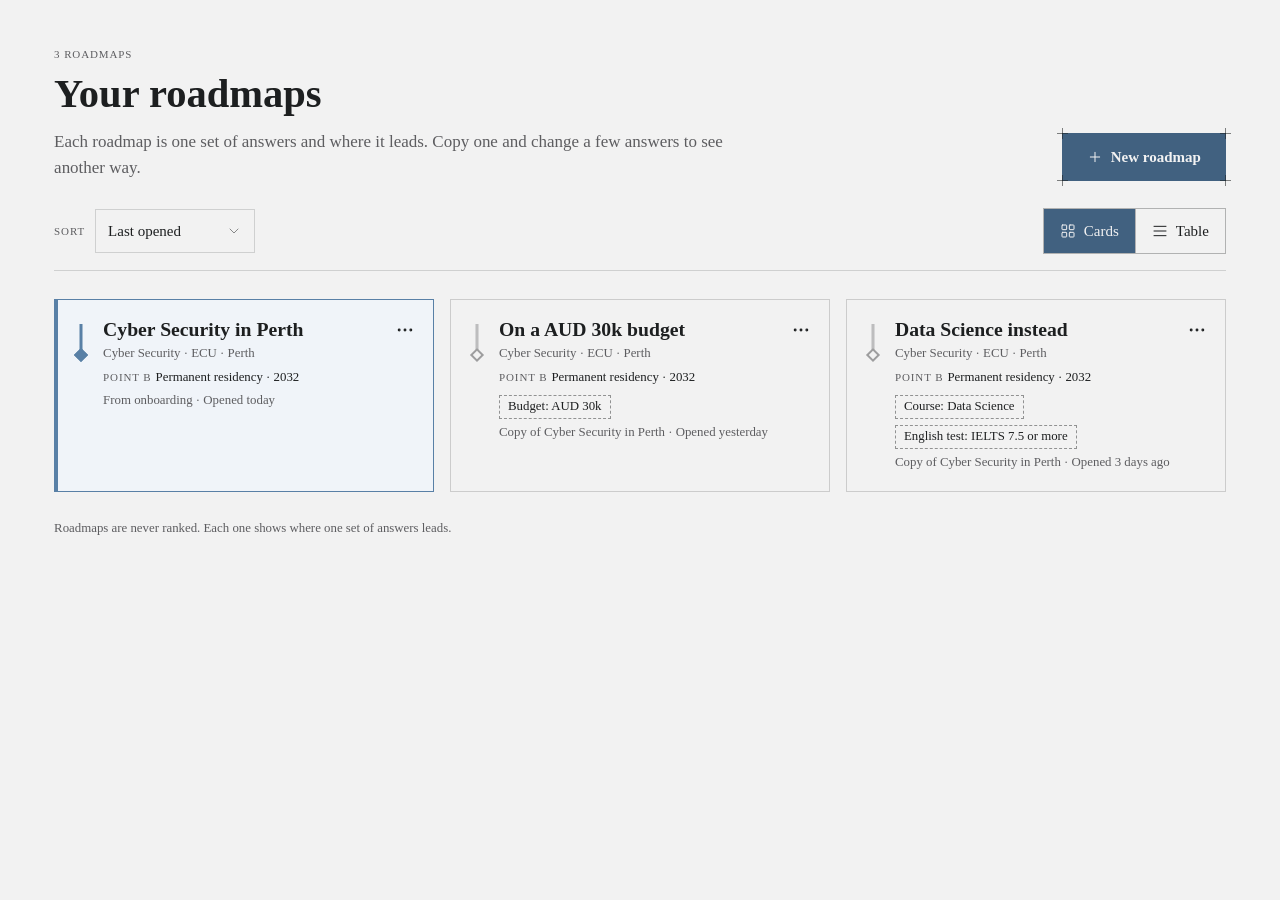
Archive › the fold opens on its archived roadmaps, faded, each row restoring it
Step 1. Click the button named "More for On a AUD 30k budget" → (801, 330), box 779,308 -> 823,352
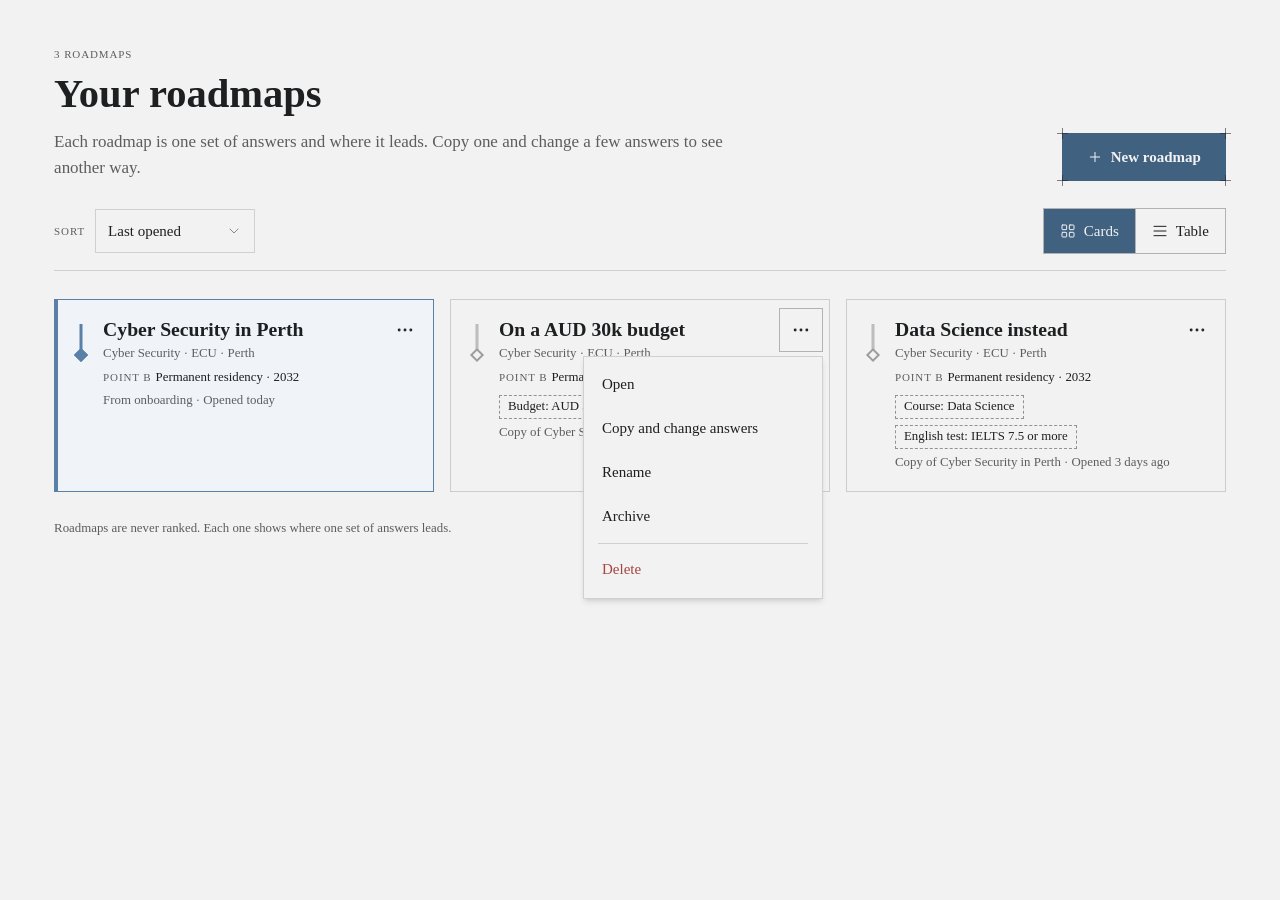
Step 2. Click the menu item "Archive" → (703, 516), box 590,494 -> 816,538
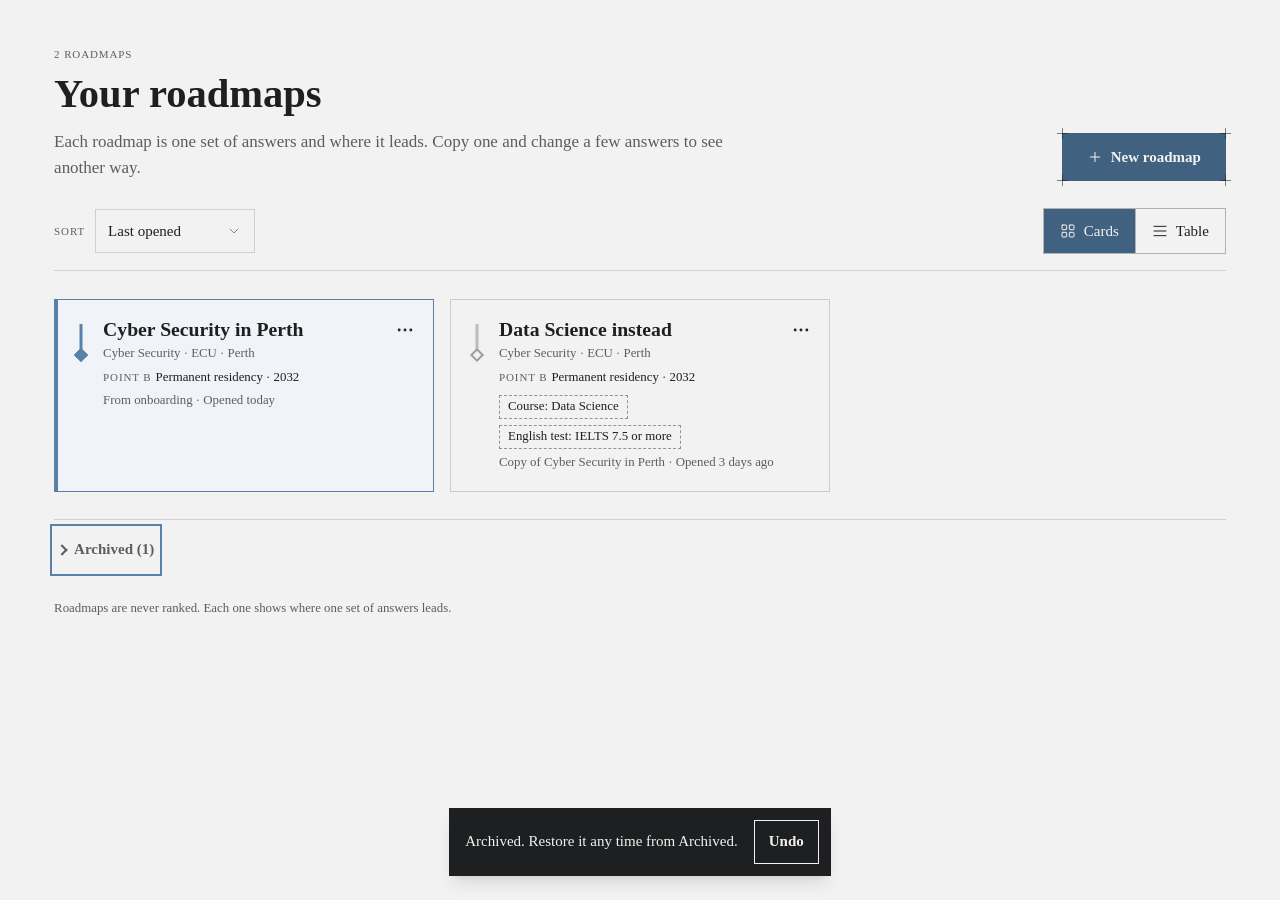
Step 3. Click the button "Archived (1)" → (106, 550), box 54,528 -> 158,572
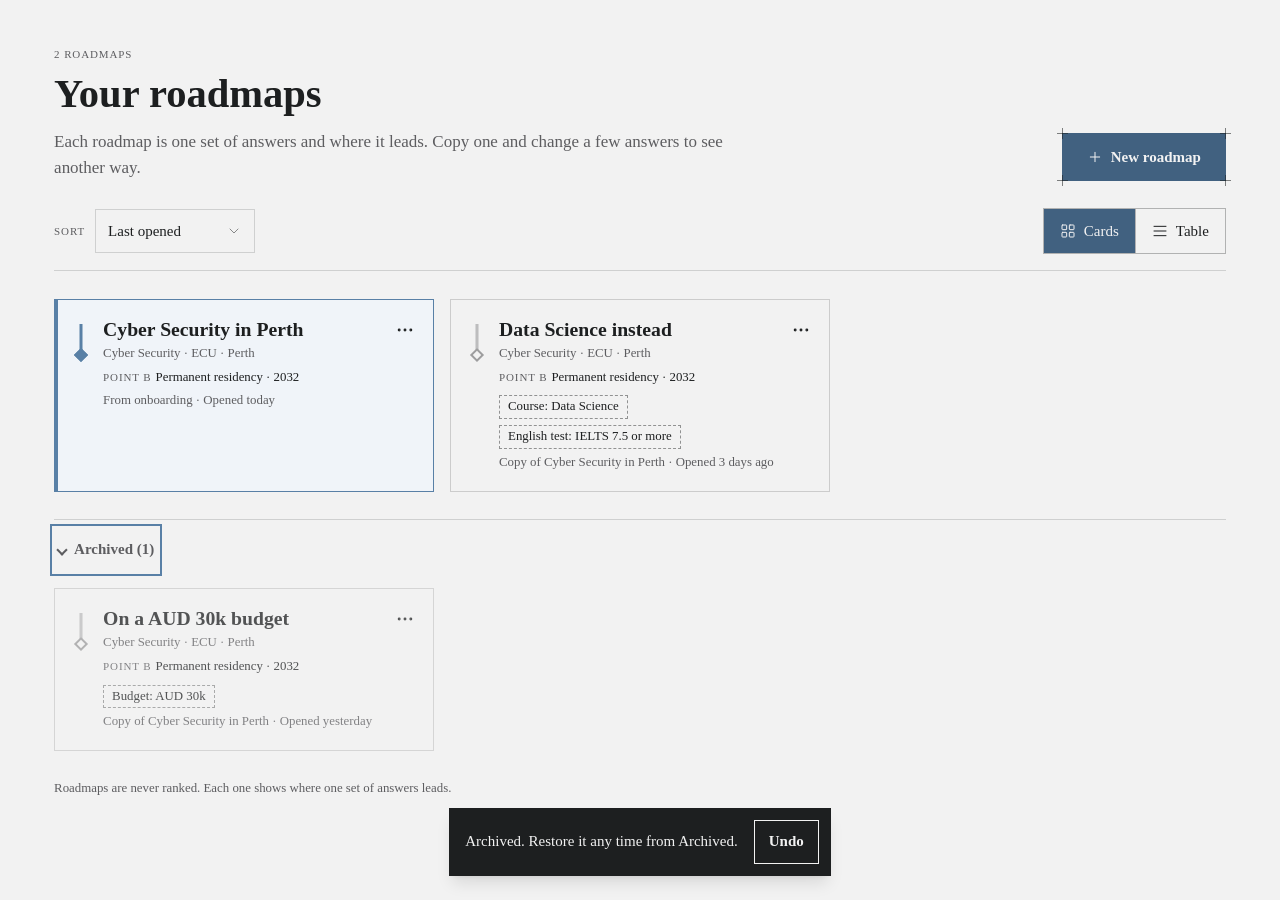
expect the button "Archived (1)" is expanded: met, box 54,528 -> 158,572
Step 4. Click the button with aria-label "Restore On a AUD 30k budget" → (219, 670), box 55,589 -> 383,750
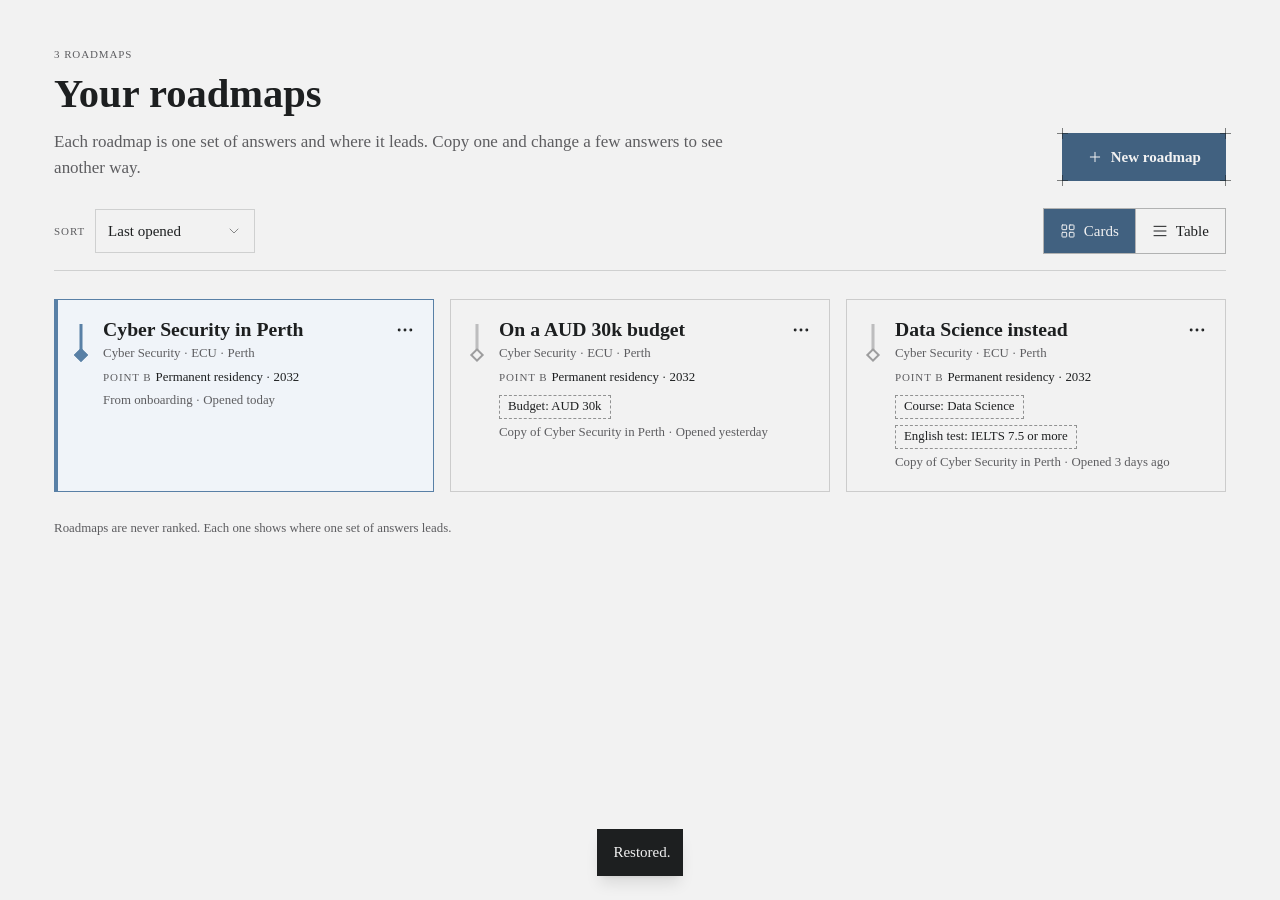
expect the heading "Your roadmaps" is shown: met, box 54,71 -> 322,116
expect the text "Restored." is shown: met, box 614,841 -> 671,864
expect the button "Archived" is gone: met
